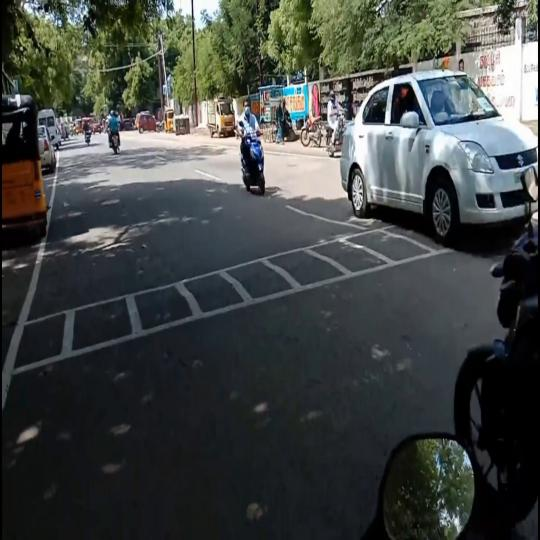Speed Bump: (2, 223, 427, 374)
